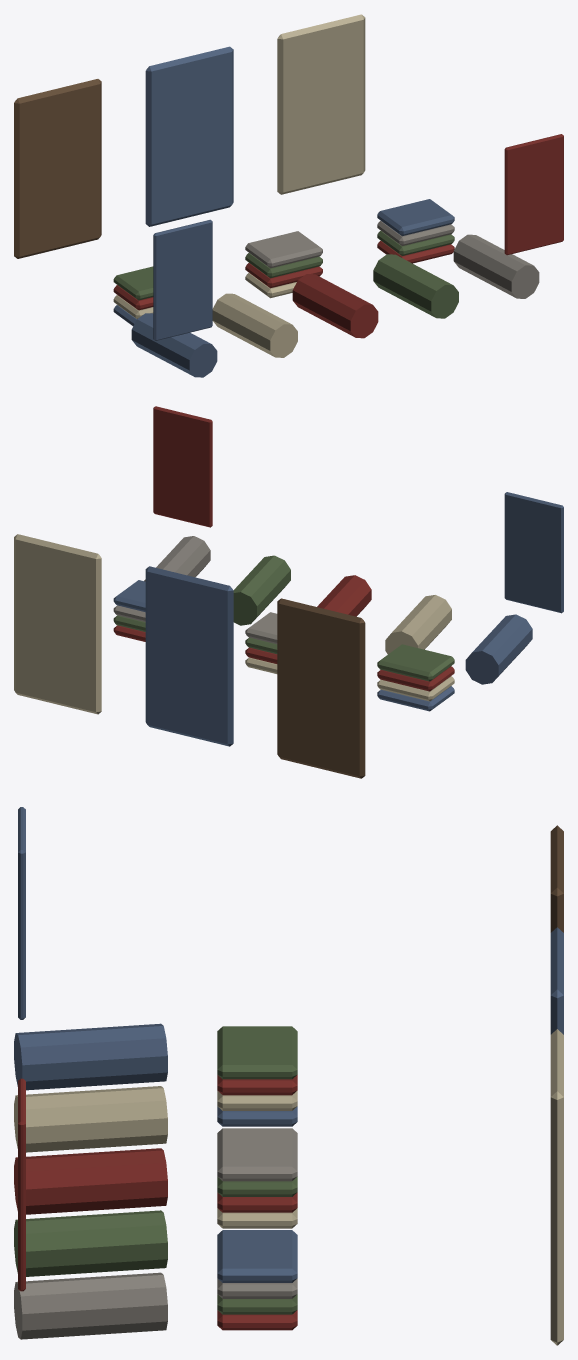
File: goods_clothier.glb
The picture shows the model from 3 angles, top to bottom: view 1: azimuth 30°, elevation 25°; view 2: azimuth 150°, elevation 25°; view 3: azimuth 270°, elevation 25°; orthographic projection. The views are drawn at different scales.
Visible parts, largest first — view 1: goods_clothier; view 2: goods_clothier; view 3: goods_clothier.
Part boxes in pixels (<box>): goods_clothier: <box>14,14,563,377</box>; goods_clothier: <box>14,406,563,778</box>; goods_clothier: <box>14,807,563,1345</box>.
Bounding box in the file's own units: 2.8 × 1.05 × 2.05.
